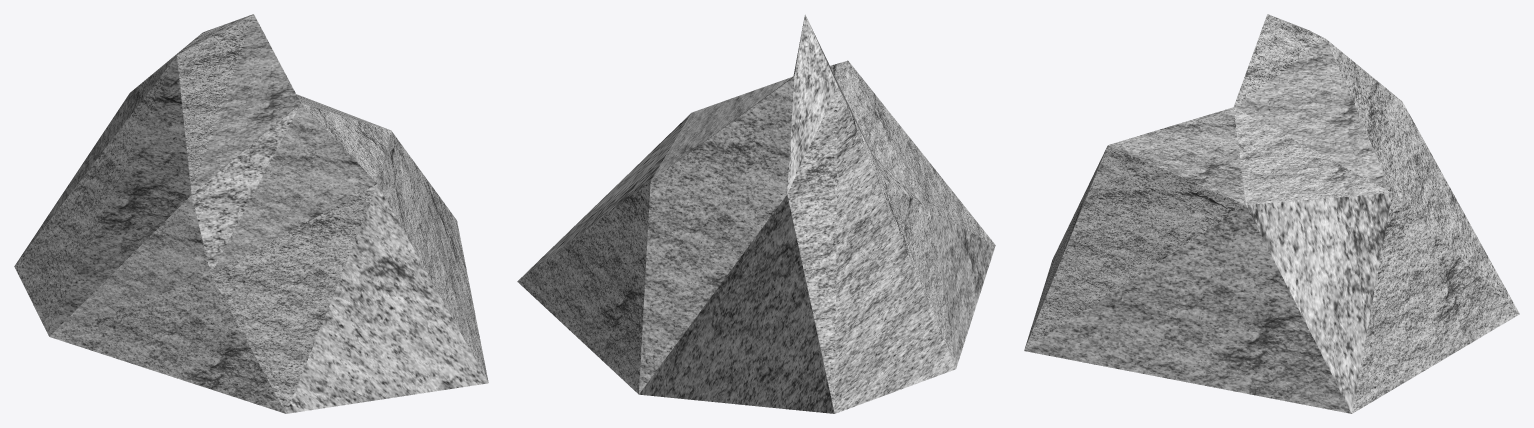
File: rock1.fbx
3 renders of one model, left to right at view 1: azimuth 30°, elevation 25°; view 2: azimuth 150°, elevation 25°; view 3: azimuth 270°, elevation 25°, orthographic. The views are drawn at different scales.
Visible parts, largest first — view 1: GeoSphere007; view 2: GeoSphere007; view 3: GeoSphere007.
Boxes of the visible parts, <box> form: GeoSphere007: <box>14,14,488,413</box>; GeoSphere007: <box>517,14,995,413</box>; GeoSphere007: <box>1024,14,1519,413</box>.
Size of the model in its own units: 83.28 by 56.33 by 88.11.
Materials: 1 (1 with a texture image).
